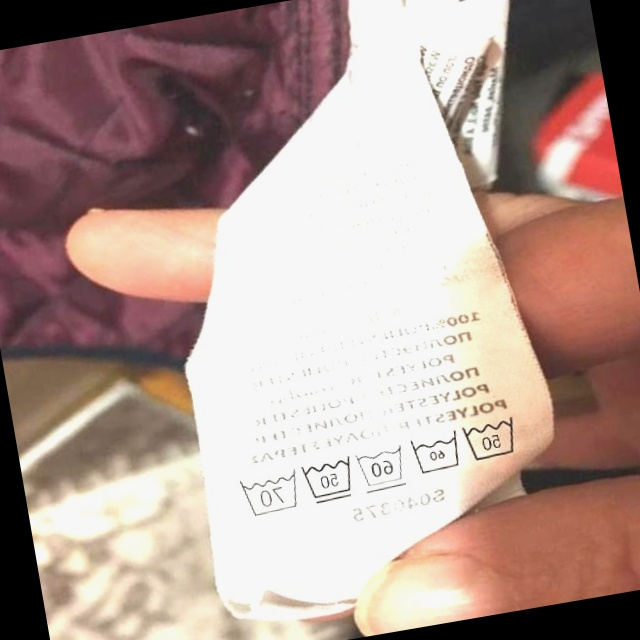50C: (457, 408, 526, 468), (296, 452, 360, 509)
60C: (350, 440, 410, 496), (405, 426, 466, 481)
70C: (232, 466, 303, 521)
